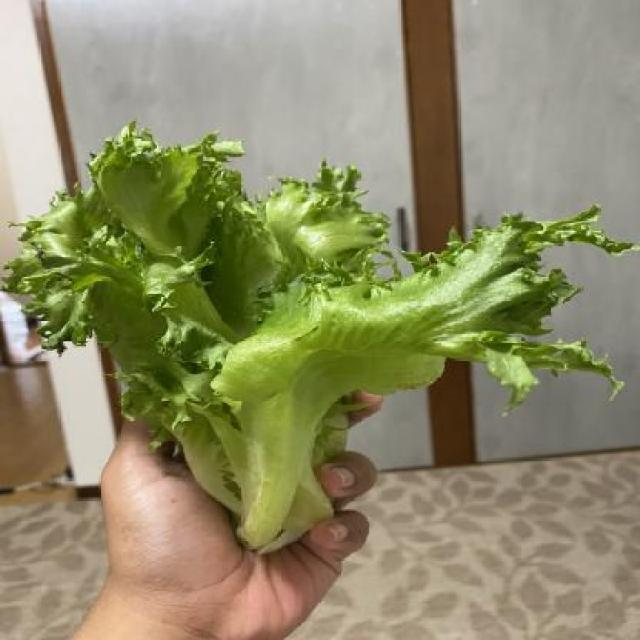Lettuce: (5, 128, 612, 554)
